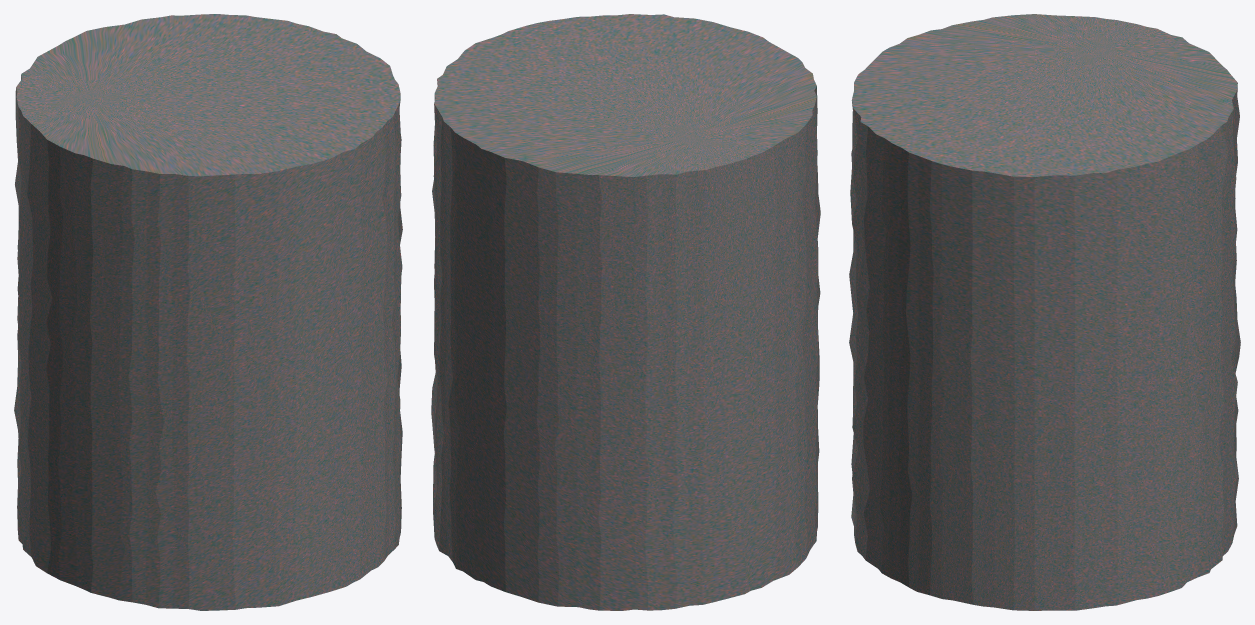
Rendered from barrel_62.dae.
3 views of the same model, side by side, from view 1: azimuth 30°, elevation 25°; view 2: azimuth 150°, elevation 25°; view 3: azimuth 270°, elevation 25° (orthographic).
Parts seen in each view (by area): view 1: Cylinder; view 2: Cylinder; view 3: Cylinder.
Boxes of the visible parts, x1=… form: Cylinder: x1=14, y1=14, x2=402, y2=610; Cylinder: x1=431, y1=14, x2=820, y2=610; Cylinder: x1=849, y1=14, x2=1240, y2=610.
Size of the model in its own units: 0.8207 by 0.8169 by 1.
1 material, 1 textured.
